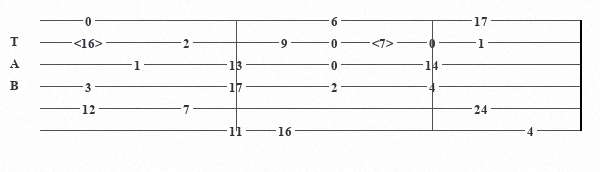0: (85, 14, 96, 27), (331, 58, 342, 71), (331, 36, 342, 49), (429, 36, 440, 49)
1: (134, 58, 145, 71), (478, 36, 489, 49)
11: (229, 124, 247, 137)
12: (82, 102, 100, 115)
13: (229, 58, 247, 71)
14: (425, 58, 443, 71)
16: (278, 124, 296, 137)
17: (229, 80, 247, 93), (474, 14, 492, 27)
2: (183, 36, 194, 49), (331, 80, 342, 93)
24: (474, 102, 492, 115)
3: (85, 80, 96, 93)
4: (429, 80, 440, 93), (527, 124, 538, 137)
6: (331, 14, 342, 27)
7: (183, 102, 194, 115)
9: (281, 36, 292, 49)
harmonic: (74, 36, 107, 49), (372, 36, 398, 49)
